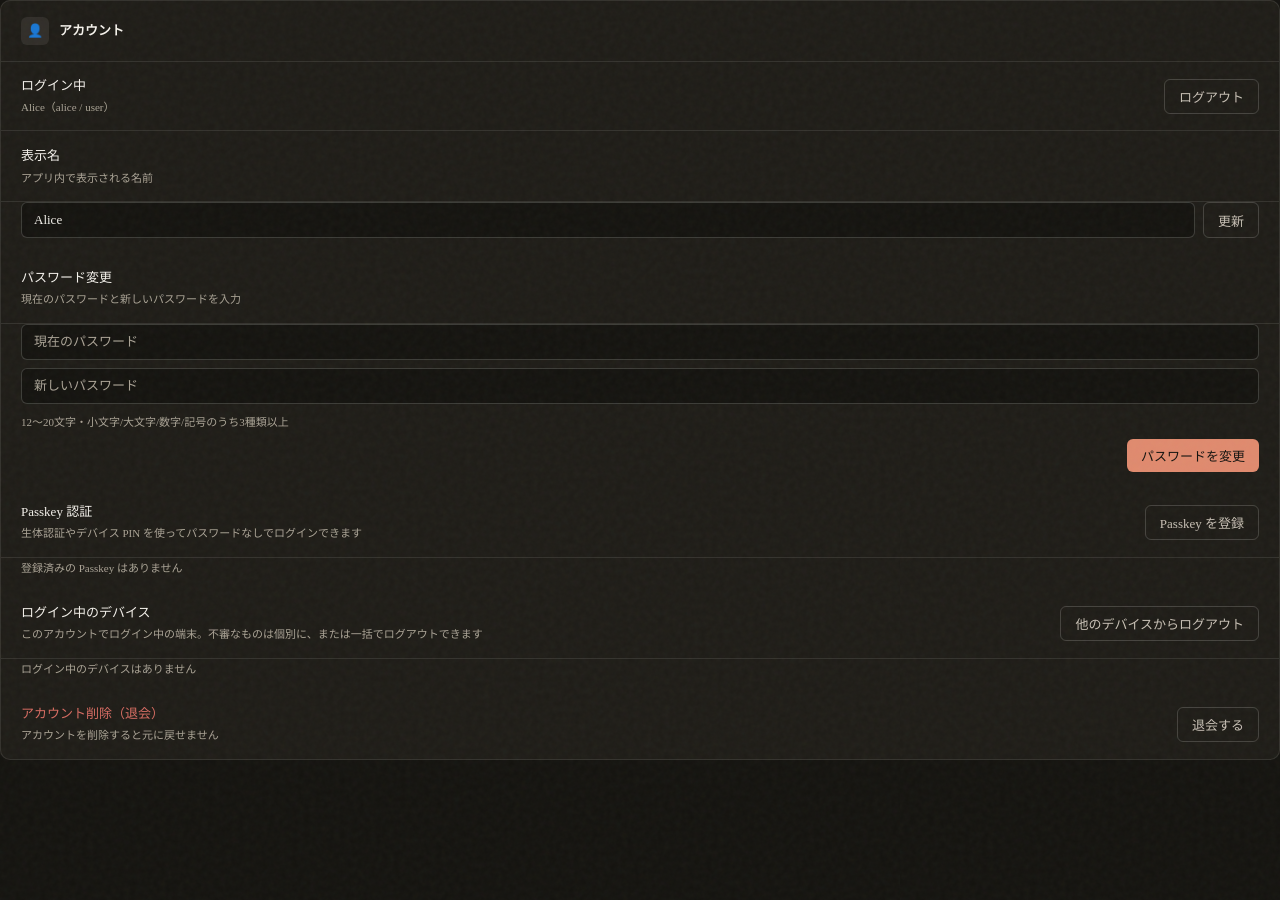
it: AccountSection — Passkey 登録 › 登録 API エラー時は失敗メッセージを表示する
What coordinates should you click on to do the following:
click the button "Passkey を登録"
I would click on:
 (1202, 522)
Its box is [1145,505,1259,540].
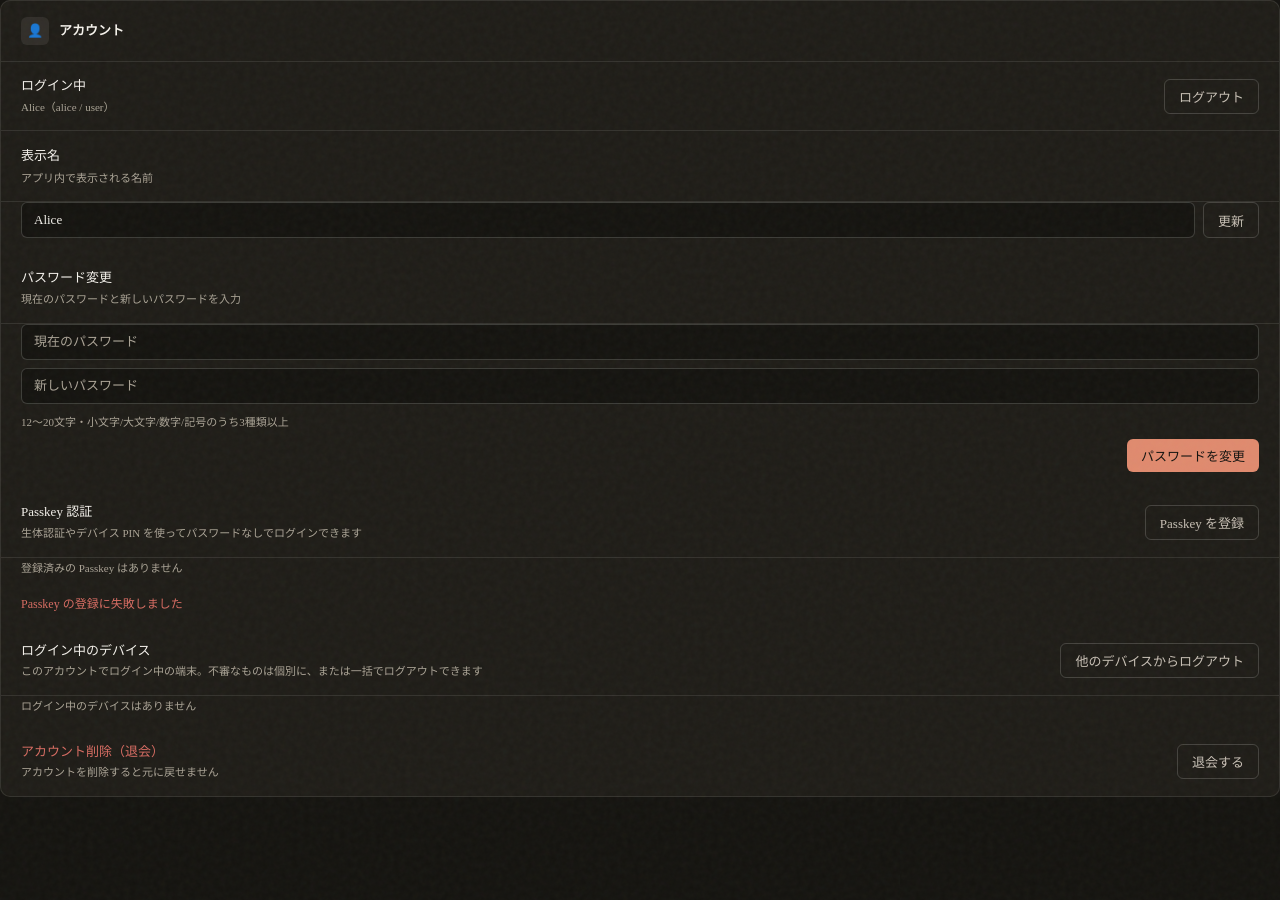
Result: the text "Passkey の登録に失敗しました" is shown at [21,597,183,611]
